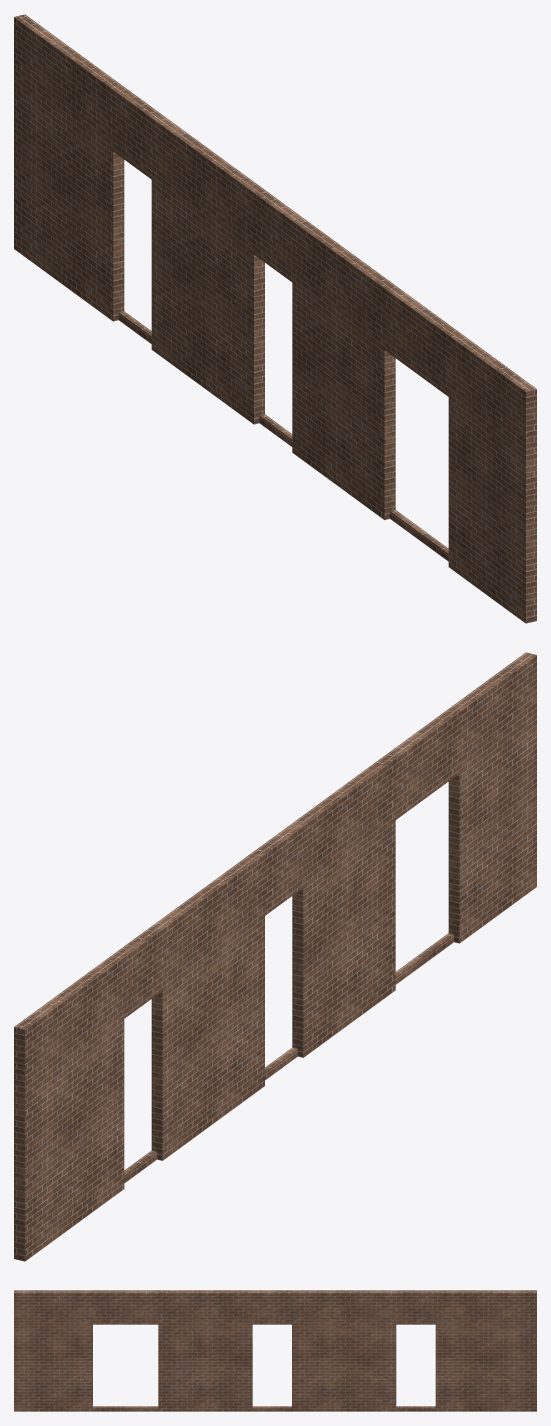
Rendered from Joglo_part_18.fbx.
3 renders of one model, top to bottom at view 1: azimuth 30°, elevation 25°; view 2: azimuth 150°, elevation 25°; view 3: azimuth 270°, elevation 25°, orthographic. The views are drawn at different scales.
Visible parts, largest first — view 1: Mesh113_Brick___Brown_0.001; view 2: Mesh113_Brick___Brown_0.001; view 3: Mesh113_Brick___Brown_0.001.
Part boxes in pixels (bbox=[...]): Mesh113_Brick___Brown_0.001: bbox=[14, 14, 536, 623]; Mesh113_Brick___Brown_0.001: bbox=[14, 652, 536, 1261]; Mesh113_Brick___Brown_0.001: bbox=[14, 1290, 536, 1411].
Bounding box in the file's own units: 5.91 × 118 × 472.
